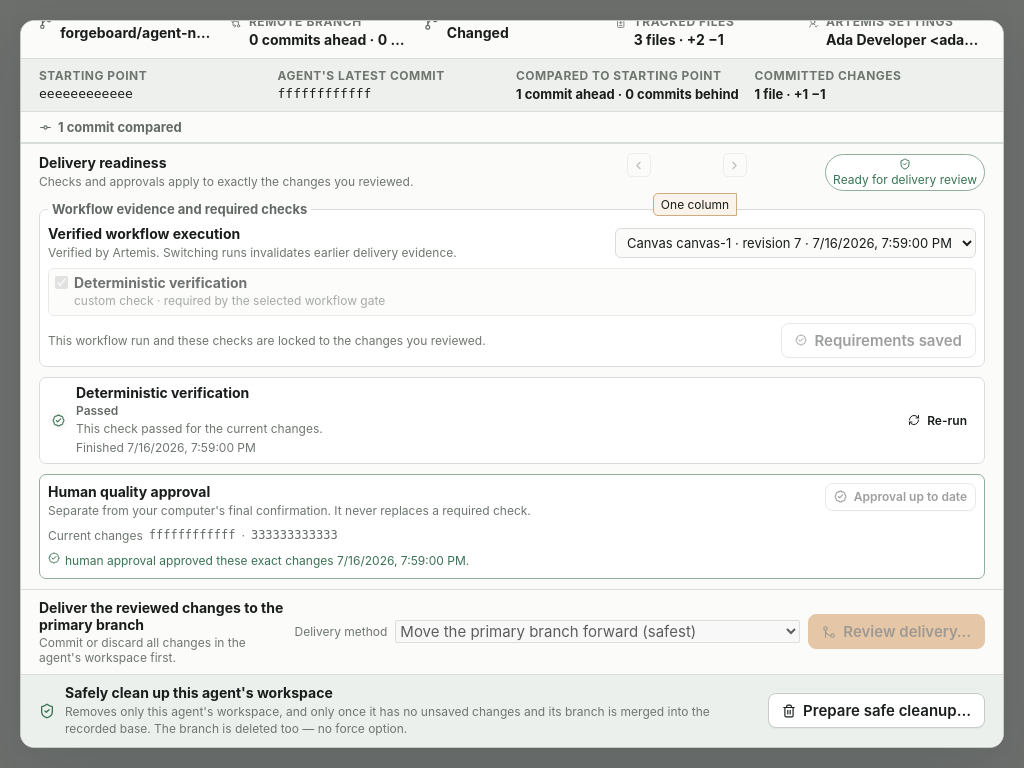
it: GitReviewDialog › keeps the review open and reports lifecycle preparation errors
This screenshot has width=1024, height=768.
(page scrolled)
Click the button "Prepare safe cleanup…": (877, 711) [768,693,985,728]
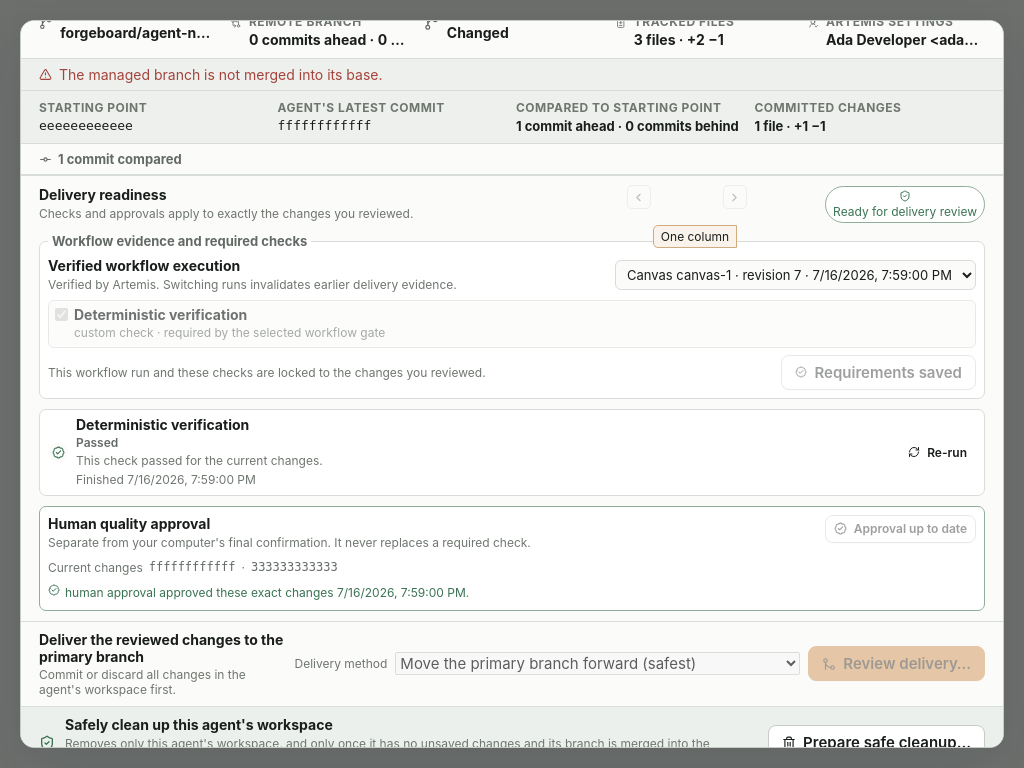
Expected: the text "The managed branch is not merged into its base." is shown, [21,59,1003,91]
